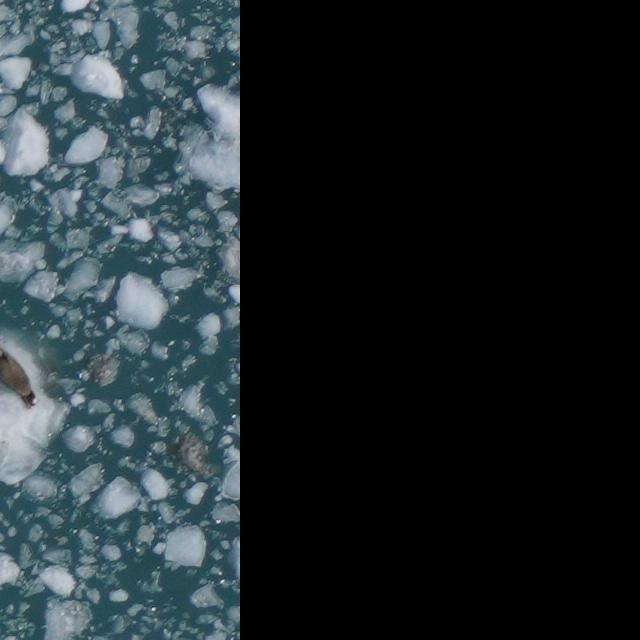seal: (0, 341, 44, 415)
